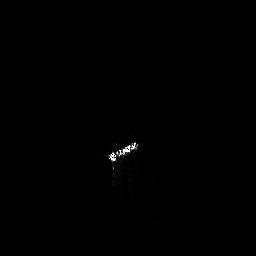ship: (103, 137, 141, 164)
